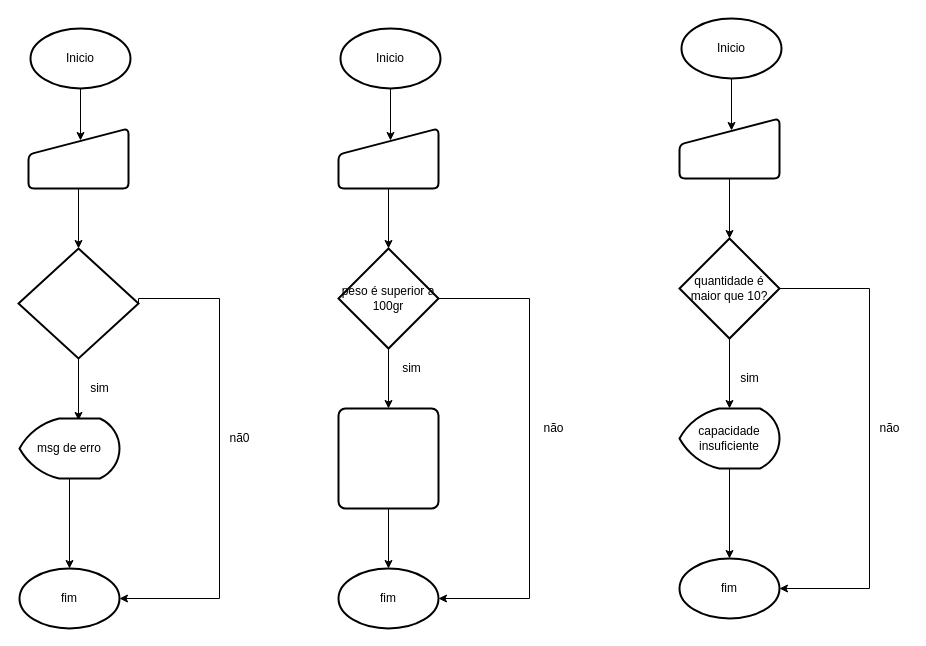
The diagram is 926 pixels wide and 646 high, and some of its shapes have lost their labels. The shapes that lost their labels are listed below. From the top down, each one's box as (x1, y1, x2, y2) in pixels, then its label:
(27, 127, 129, 189): número da peça
(337, 127, 439, 189): peso da peça
(678, 117, 780, 179): quantidade de peças
(17, 247, 139, 359): quantidade de caracteres é inferior à 3
(337, 407, 439, 509): cadastrar
